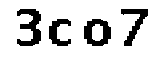3: (15, 6, 44, 52)
7: (119, 3, 151, 50)
c: (47, 15, 75, 48)
o: (81, 17, 113, 50)
